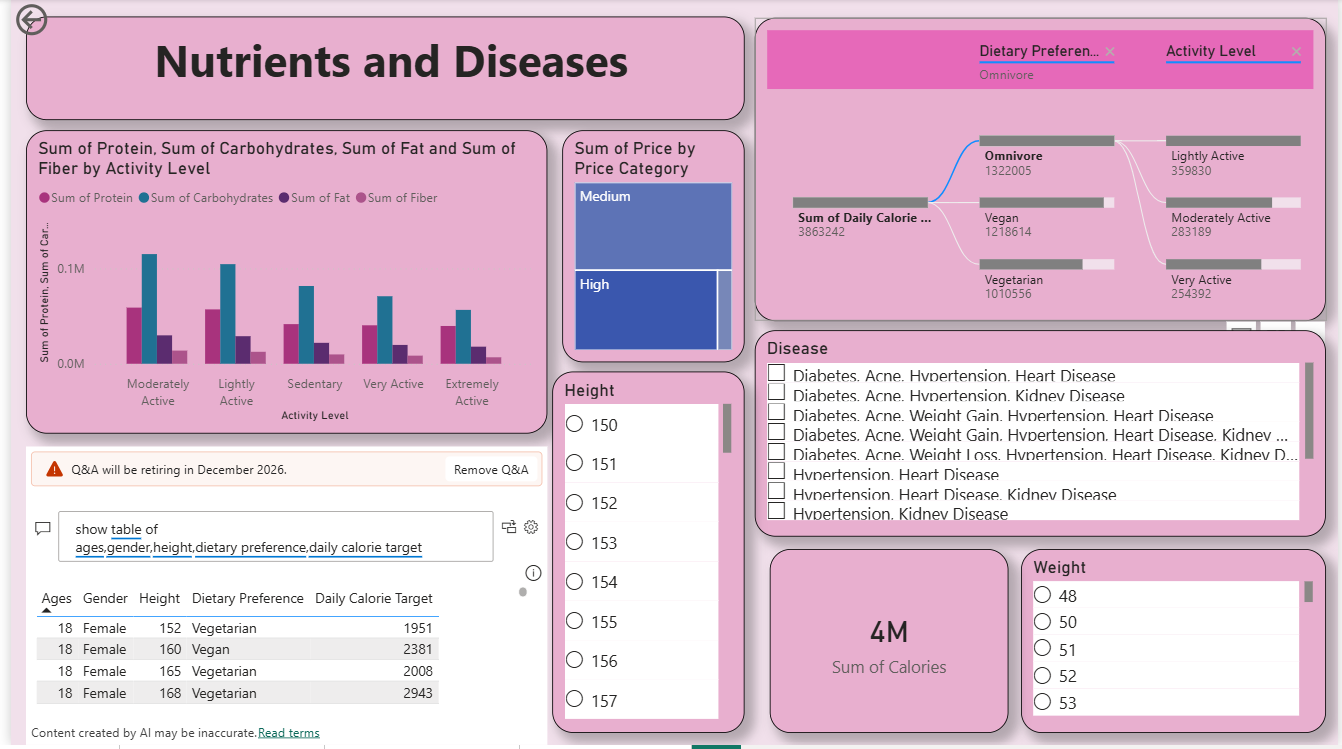

What the dashboard file says about the page in this screenshot:
{"tool":"powerbi","page":{"name":"Nutrients and diseases","canvas":[1280,720],"ordinal":1},"visuals":[{"type":"textbox","box":[14.5,16.9,693.7,100.1],"z":0},{"type":"clusteredColumnChart","fields":{"Y":["Sum(Food_and_Nutrition__.Protein)","Sum(Food_and_Nutrition__.Carbohydrates)","Sum(Food_and_Nutrition__.Fat)","Sum(Food_and_Nutrition__.Fiber)"],"Category":["Food_and_Nutrition__.Activity Level"]},"box":[14.5,126.7,503.1,293.2],"z":1000},{"type":"treemap","fields":{"Group":["Food_and_Nutrition__.Price Category"],"Values":["Sum(Food_and_Nutrition__.Price)"]},"box":[532,126.7,176.1,224.4],"z":2000},{"type":"decompositionTreeVisual","fields":{"Analyze":["Sum(Food_and_Nutrition__.Daily Calorie Target)"],"ExplainBy":["Food_and_Nutrition__.Dietary Preference","Food_and_Nutrition__.Activity Level"]},"box":[717.5,17.5,551.2,292.5],"z":3000},{"type":"listSlicer","fields":{"Values":["Food_and_Nutrition__.Disease"]},"box":[717.8,319.7,551.3,199.1],"z":4000},{"type":"listSlicer","fields":{"Values":["Food_and_Nutrition__.Height"]},"box":[522.4,359.5,185.8,348.7],"z":5000},{"type":"listSlicer","fields":{"Values":["Food_and_Nutrition__.Weight"]},"box":[974.8,530.8,294.4,177.3],"z":6000},{"type":"actionButton","box":[0,0,100,40],"z":7000},{"type":"card","fields":{"Values":["Sum(Food_and_Nutrition__.Calories)"]},"box":[732.3,530.8,230.4,177.3],"z":8000},{"type":"qnaVisual","box":[14.5,431.9,503.1,288.3],"z":9000}]}

Visuals, with their boxes in screenshot pixels (x1, y1, x2, y2), scaled from the page's 1280x720 canvas onto the 1342x749 screenshot:
textbox: locate(15, 18, 743, 122)
clusteredColumnChart - Sum(Food_and_Nutrition__.Protein) x Sum(Food_and_Nutrition__.Carbohydrates): locate(15, 132, 543, 437)
treemap - Food_and_Nutrition__.Price Category x Sum(Food_and_Nutrition__.Price): locate(558, 132, 742, 365)
decompositionTreeVisual - Sum(Food_and_Nutrition__.Daily Calorie Target) x Food_and_Nutrition__.Dietary Preference: locate(752, 18, 1330, 322)
listSlicer - Food_and_Nutrition__.Disease: locate(753, 333, 1331, 540)
listSlicer - Food_and_Nutrition__.Height: locate(548, 374, 743, 737)
listSlicer - Food_and_Nutrition__.Weight: locate(1022, 552, 1331, 737)
actionButton: locate(0, 0, 105, 42)
card - Sum(Food_and_Nutrition__.Calories): locate(768, 552, 1009, 737)
qnaVisual: locate(15, 449, 543, 748)
